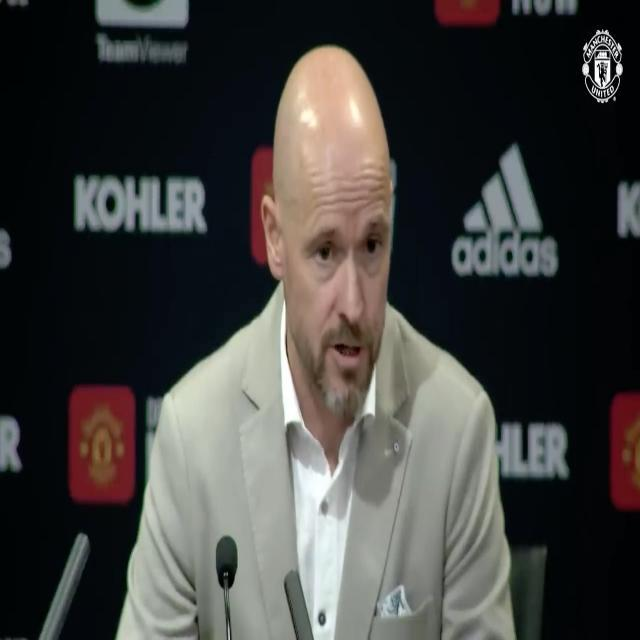Adidas: (450, 138, 560, 278)
Kohler: (73, 177, 206, 233)
TeamViewer: (97, 2, 188, 64)
